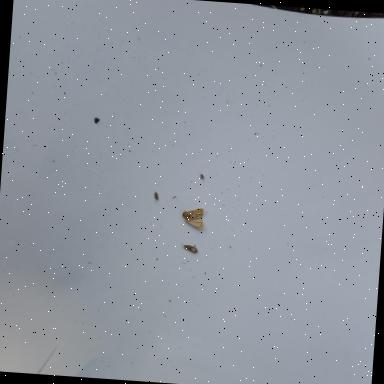pbw: (180, 206, 204, 229), (178, 243, 198, 254)
